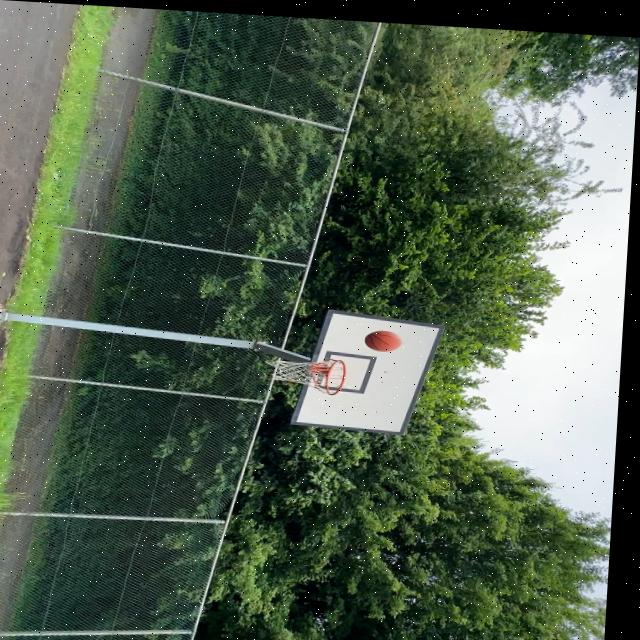Basketball: (365, 330, 404, 354)
